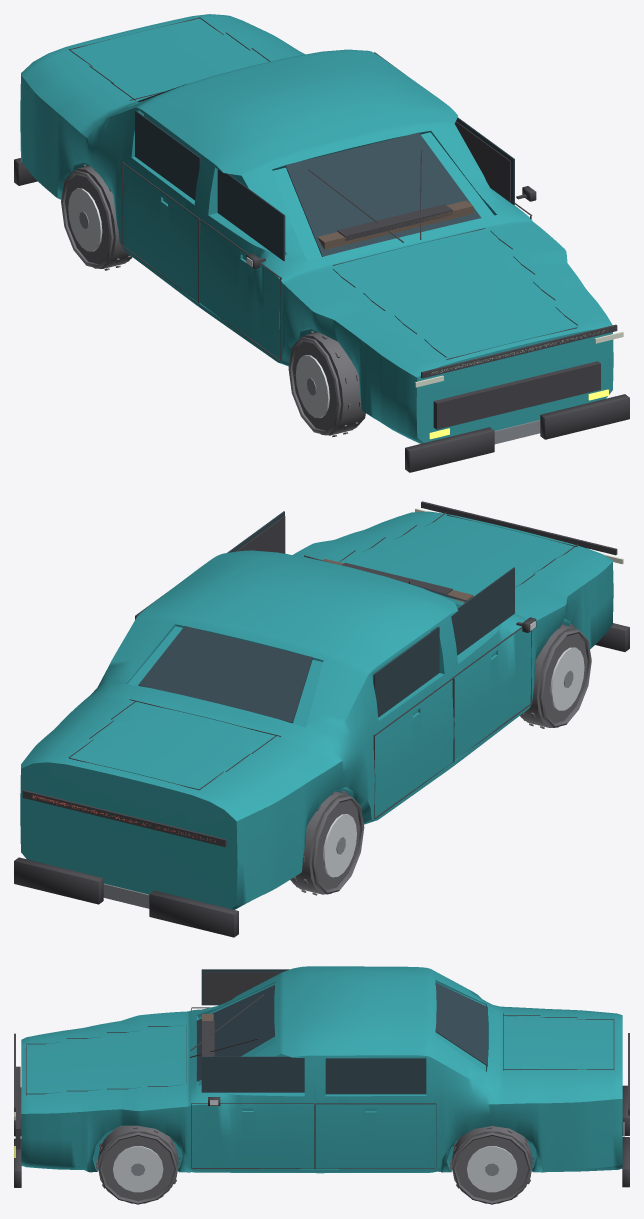
The model's file is Sedan_Mid_A_Ocean.fbx.
The picture shows the model from 3 angles, top to bottom: view 1: azimuth 30°, elevation 25°; view 2: azimuth 150°, elevation 25°; view 3: azimuth 270°, elevation 25°; orthographic projection. The views are drawn at different scales.
Visible parts, largest first — view 1: LOD0; view 2: LOD0; view 3: LOD0.
Boxes of the visible parts, box(x1,y1,x2,y2) form: LOD0: box(14, 14, 629, 472); LOD0: box(14, 501, 629, 937); LOD0: box(14, 966, 629, 1204).
Size of what is drawn, in the model's own units: 204 by 144 by 491.
